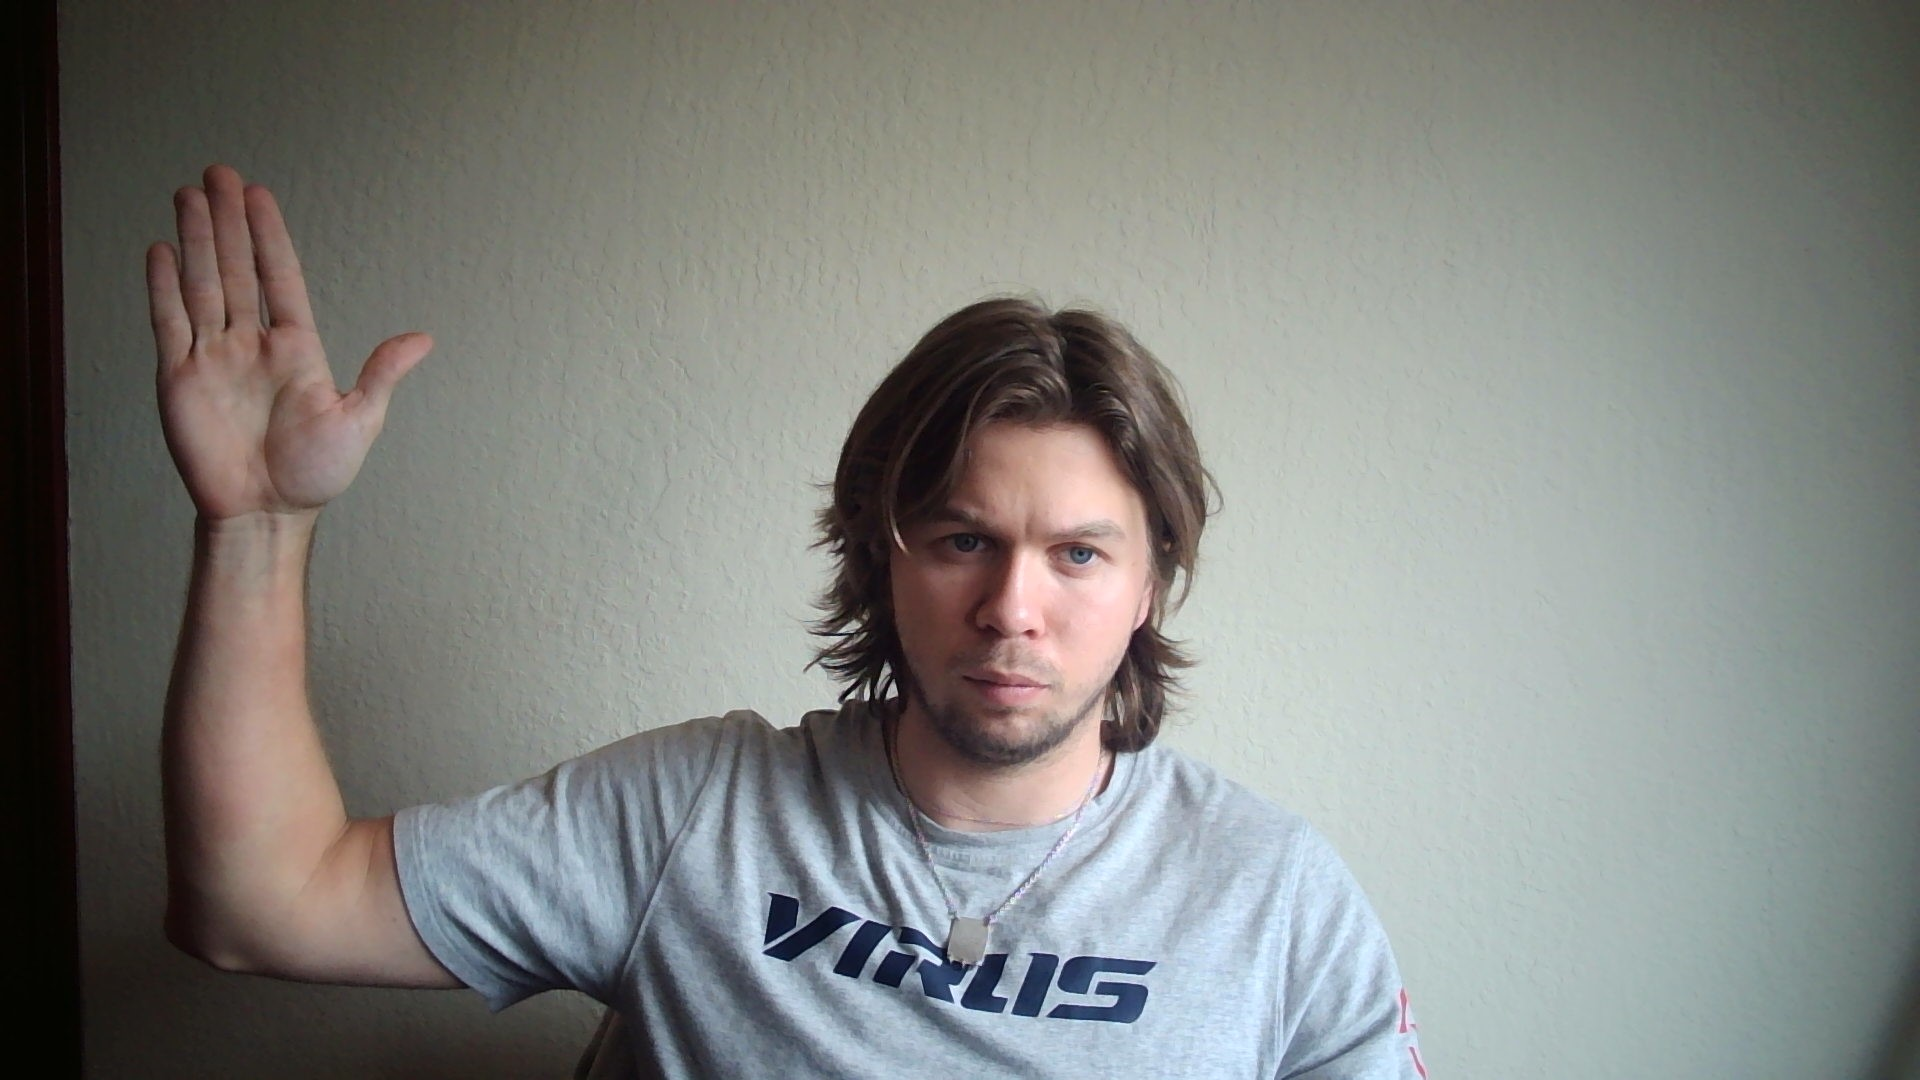hello: (144, 165, 434, 520)
